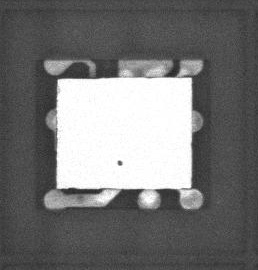DIE_INK: (110, 165, 118, 176)
